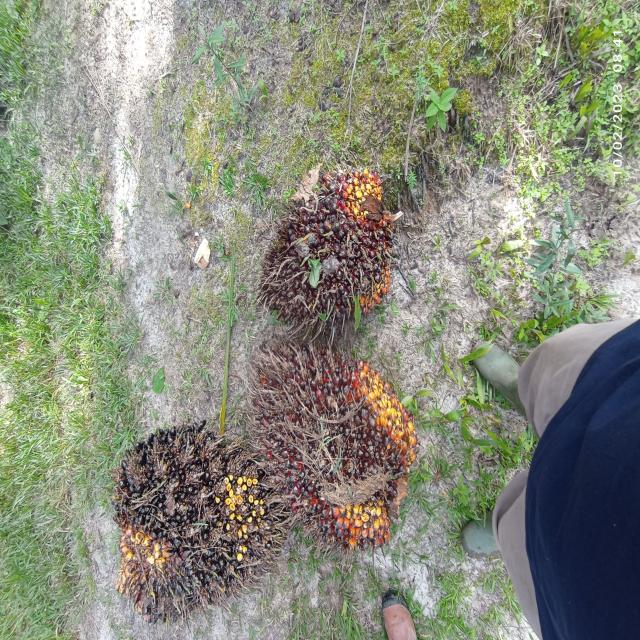fraksi 00: (102, 396, 276, 613), (232, 150, 420, 338)
fraksi 1: (223, 341, 445, 570)
